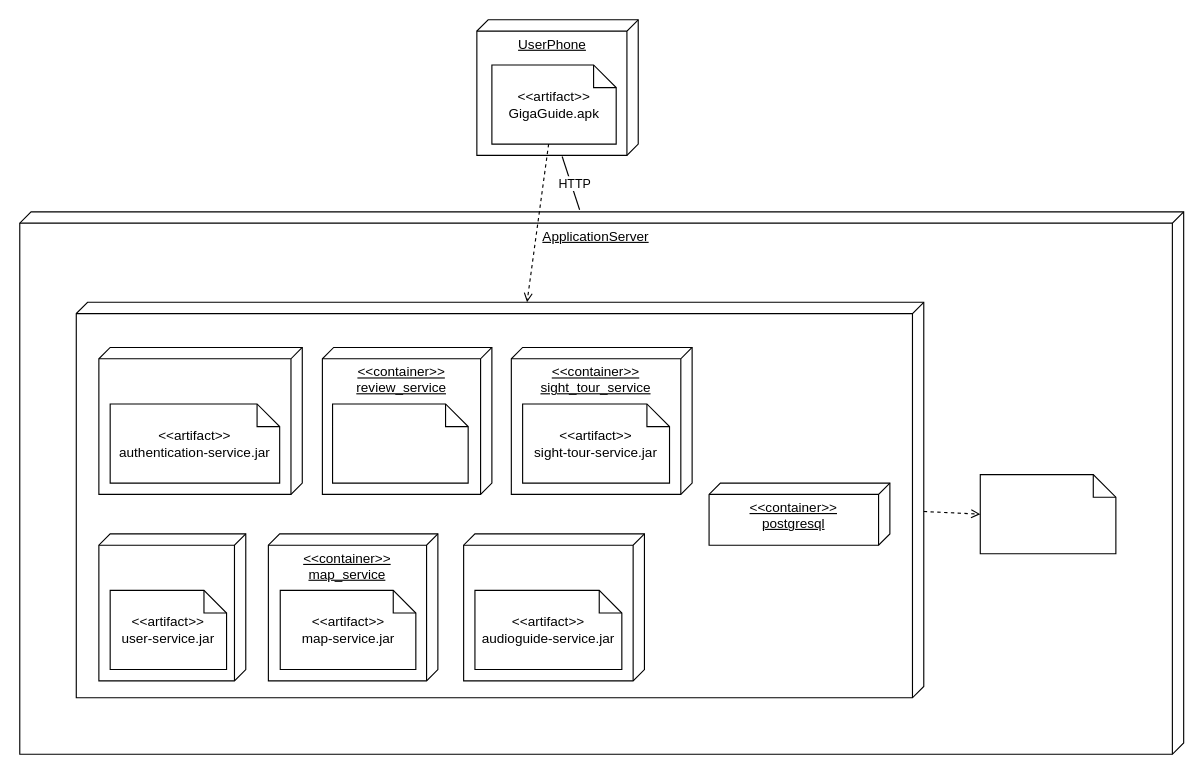
Some shapes in this 1203 by 774 pixel diagram are drawn without their labels. Each missing label, with the box of its shape:
<<artifact>> review-service .jar: (331, 403, 468, 483)
<<container>> audioguide_service: (463, 533, 644, 681)
<<container>> authentication_service: (98, 346, 302, 494)
<<container>> user_service: (98, 533, 246, 681)
<<volume>> Database: (979, 473, 1116, 554)
Docker Compose: (75, 301, 924, 698)
